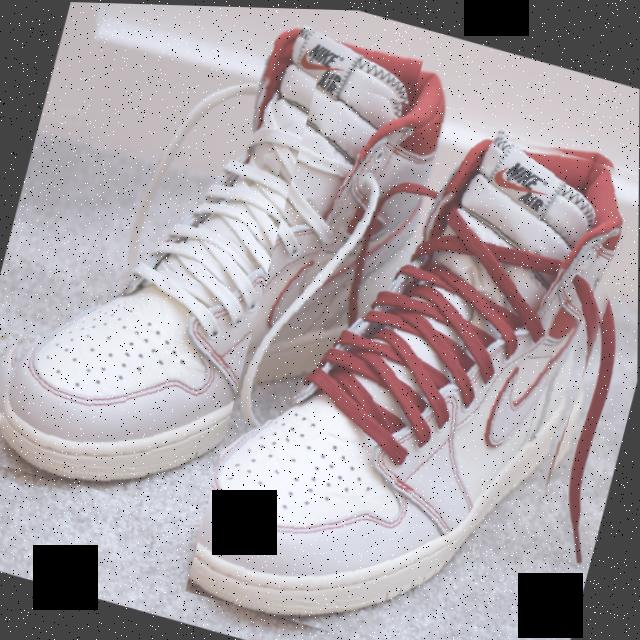shoe: (185, 69, 640, 640), (0, 0, 423, 549)
